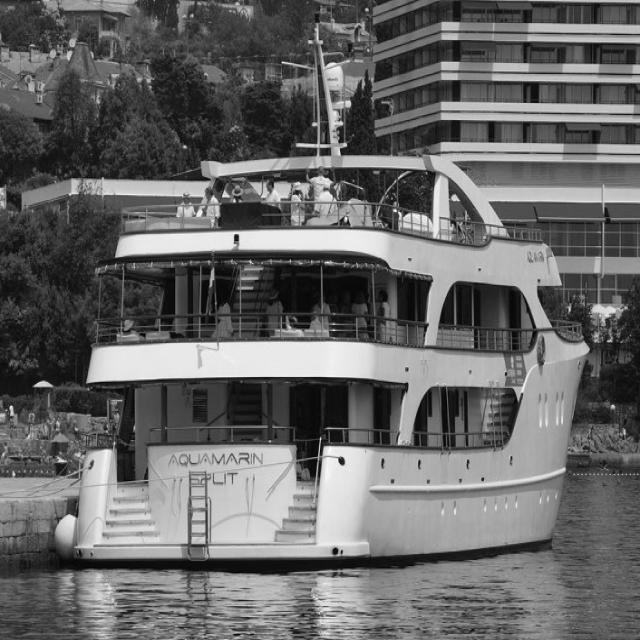cruises: (73, 49, 585, 569)
